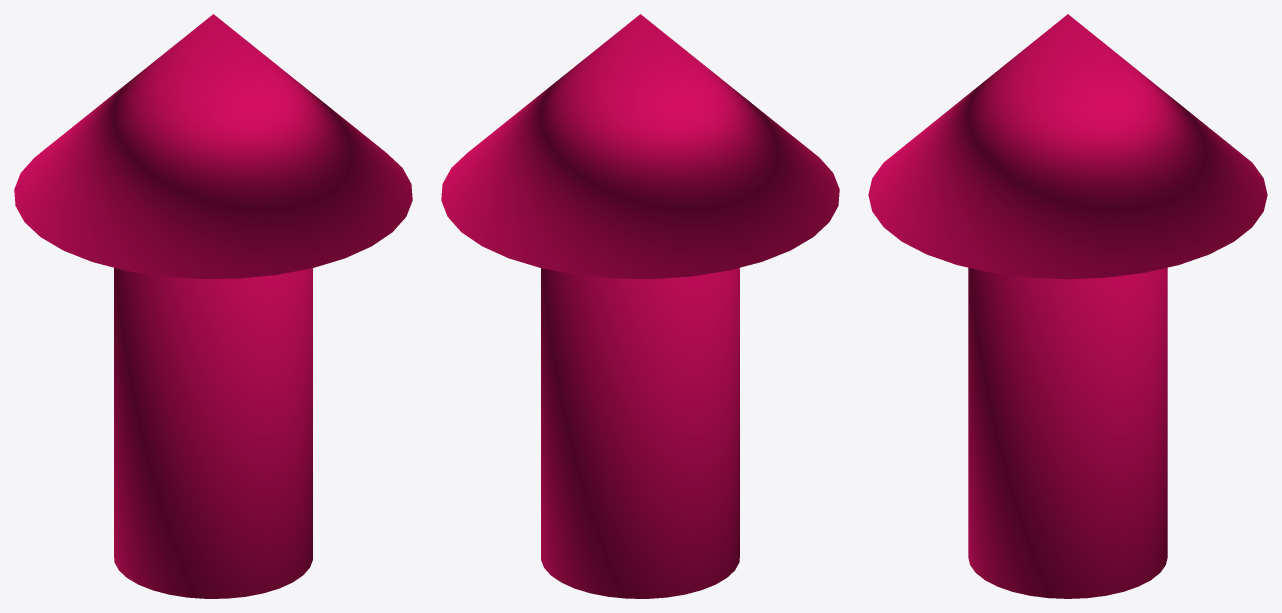
Rendered from ArrowFull.fbx.
3 renders of one model, left to right at view 1: azimuth 30°, elevation 25°; view 2: azimuth 150°, elevation 25°; view 3: azimuth 270°, elevation 25°, orthographic.
Parts seen in each view (by area): view 1: Cone, Cylinder; view 2: Cone, Cylinder; view 3: Cone, Cylinder.
Boxes of the visible parts, x1,y1,x2,y2 form: Cone: (14,14,412,278); Cylinder: (114,268,312,598); Cone: (441,14,839,278); Cylinder: (541,268,739,598); Cone: (868,14,1267,279); Cylinder: (968,267,1167,598).
Size of the model in its own units: 2 by 3 by 2.
